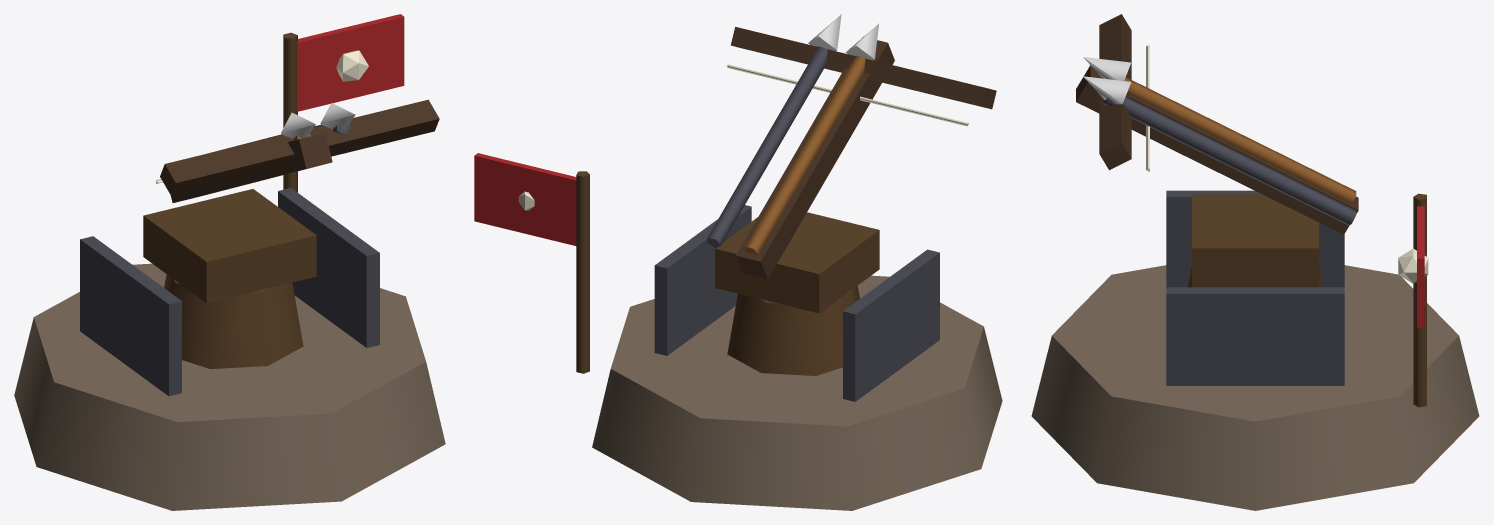
File: goblin-level2.glb
3 views of the same model, side by side, from view 1: azimuth 30°, elevation 25°; view 2: azimuth 150°, elevation 25°; view 3: azimuth 270°, elevation 25° (orthographic). The views are drawn at different scales.
Visible parts, largest first — view 1: object 1, turret, object 7, object 2, object 8, object 5, object 4, object 6; view 2: object 1, turret, object 7, object 2, object 5, object 8, object 4; view 3: object 1, turret, object 8, object 7, object 4, object 5, object 6.
Part boxes in pixels (x1,y1,x2,y2): object 1: (14,263,445,510); turret: (143,99,439,303); object 7: (80,236,181,396); object 2: (164,274,303,369); object 8: (278,188,379,347); object 5: (297,14,404,111); object 4: (283,32,297,192); object 6: (336,50,368,81); object 1: (592,275,1002,510); turret: (707,14,996,313); object 7: (843,249,939,401); object 2: (727,286,859,375); object 5: (474,153,576,245); object 8: (654,205,751,355); object 4: (576,171,589,373); object 1: (1031,265,1479,510); turret: (1076,14,1358,287); object 8: (1166,287,1344,385); object 7: (1166,190,1344,287); object 4: (1413,193,1426,407); object 5: (1417,206,1424,327); object 6: (1398,248,1428,283).
Bounding box in the file's own units: 2.16 × 1.65 × 1.87.
